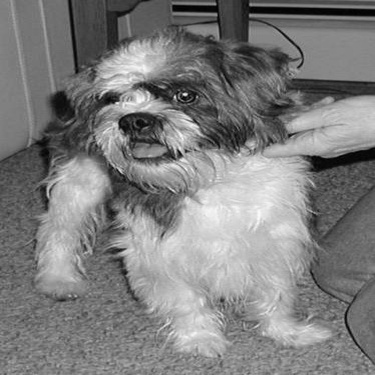dog: (23, 17, 347, 362)
